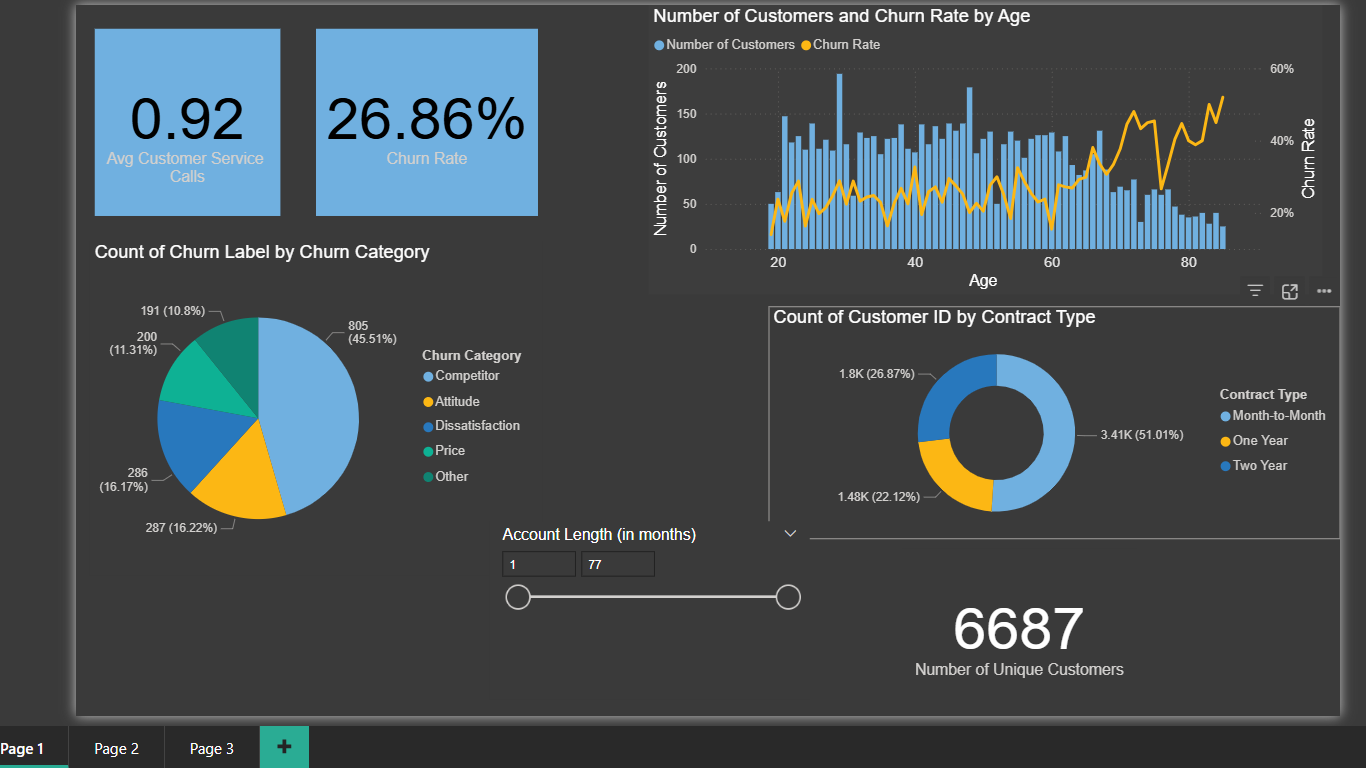

The dashboard page shown, as its layout file describes it:
{"tool":"powerbi","page":{"name":"Page 1","canvas":[1280,720],"ordinal":0},"visuals":[{"type":"card","fields":{"Values":["Databel - Data.Avg Customer Service Calls"]},"box":[18.5,24.2,187.9,189.4],"z":0},{"type":"card","fields":{"Values":["Databel - Data.Churn Rate","select"]},"box":[243.5,24.2,225,189.4],"z":1000},{"type":"lineStackedColumnComboChart","fields":{"Y2":["Databel - Data.Churn Rate"],"Y":["Databel - Data.Number of Customers"],"Category":["Databel - Data.Age"]},"box":[580.4,0,682.4,292.6],"z":2000},{"type":"donutChart","fields":{"Series":["Databel - Data.Contract Type"],"Y":["CountNonNull(Databel - Data.Customer ID)"]},"box":[700.9,304.9,579.1,236.1],"z":3000},{"type":"pieChart","fields":{"Y":["CountNonNull(Databel - Data.Churn Label)"],"Category":["Databel - Data.Churn Category"]},"box":[13.5,239.8,458.6,338.1],"z":4000},{"type":"slicer","fields":{"Values":["Databel - Data.Account Length (in months)"]},"box":[418.8,523.2,323.2,179.7],"z":5000},{"type":"card","fields":{"Values":["Databel - Data.Number of Unique Customers"]},"box":[836.2,550.7,237.7,169.6],"z":5001}]}

Visuals, with their boxes on the page's 1280x720 design canvas (x1, y1, x2, y2). These are canvas units, not pixel positions in the 1366x768 screenshot, which may show the page scaled, cropped or inside an application window:
card - Databel - Data.Avg Customer Service Calls: region(18, 24, 206, 214)
card - Databel - Data.Churn Rate x select: region(244, 24, 468, 214)
lineStackedColumnComboChart - Databel - Data.Churn Rate x Databel - Data.Number of Customers: region(580, 0, 1263, 293)
donutChart - Databel - Data.Contract Type x CountNonNull(Databel - Data.Customer ID): region(701, 305, 1280, 541)
pieChart - CountNonNull(Databel - Data.Churn Label) x Databel - Data.Churn Category: region(14, 240, 472, 578)
slicer - Databel - Data.Account Length (in months): region(419, 523, 742, 703)
card - Databel - Data.Number of Unique Customers: region(836, 551, 1074, 720)
